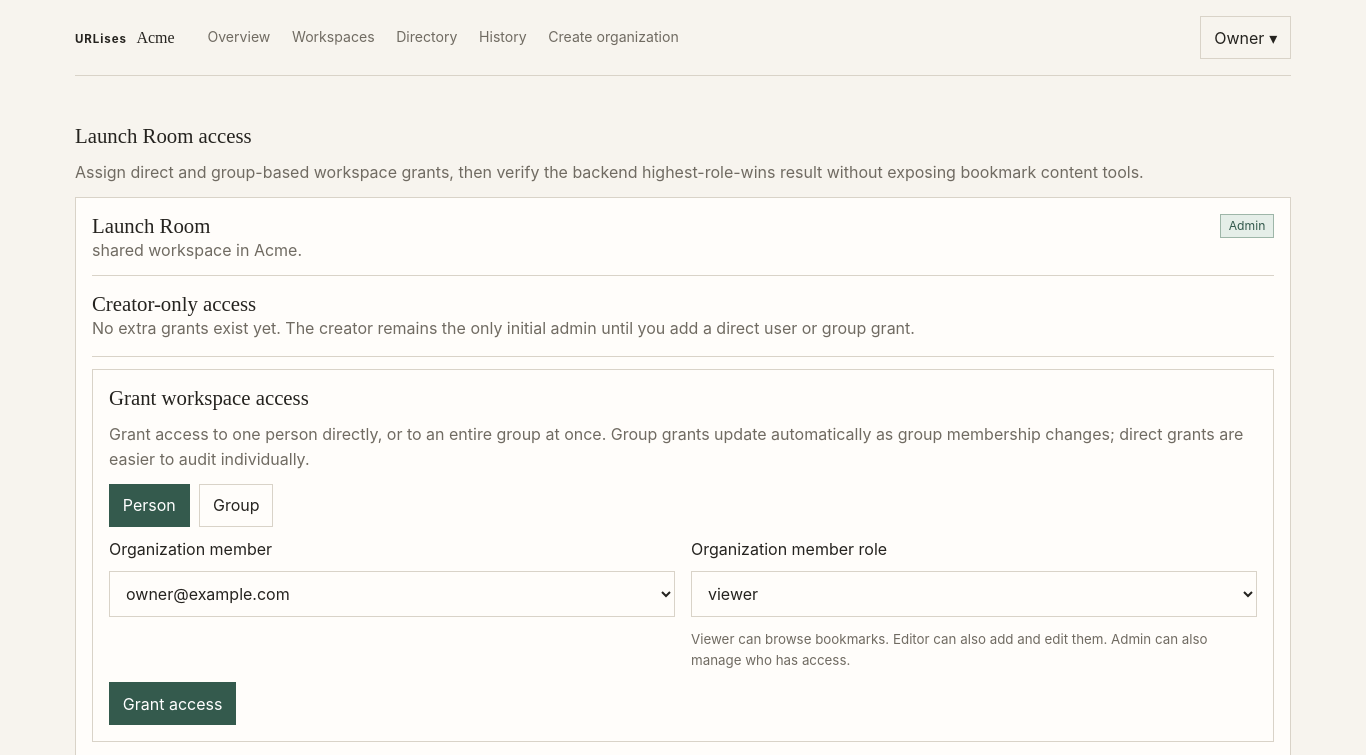
access page › adds a new group grant via the group toggle
Expected: the heading "Creator-only access" is shown, top-left (92, 292), bottom-right (256, 315)
Click the button "Group" at (236, 505), box top-left (199, 484), bottom-right (273, 527)
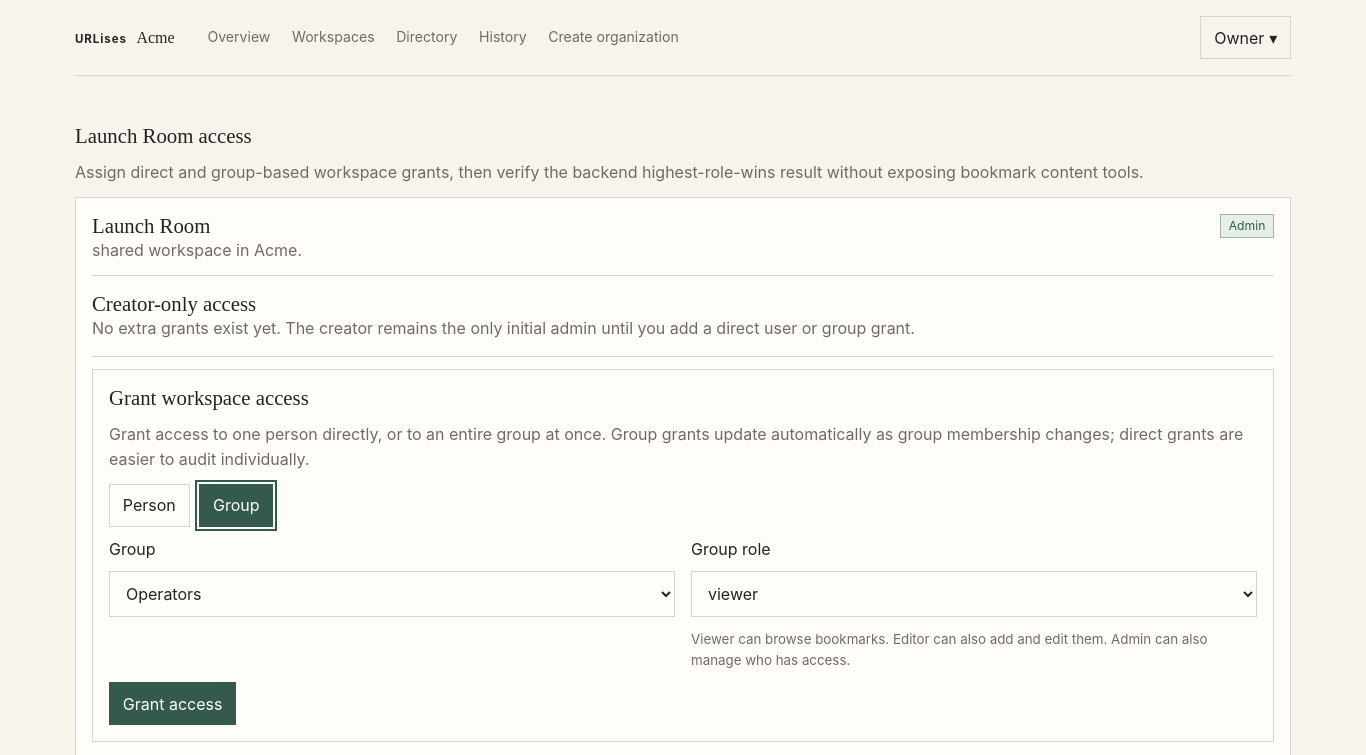
Select "Operators" in the dropdown labelled "Group" at (392, 594), box top-left (109, 571), bottom-right (675, 617)
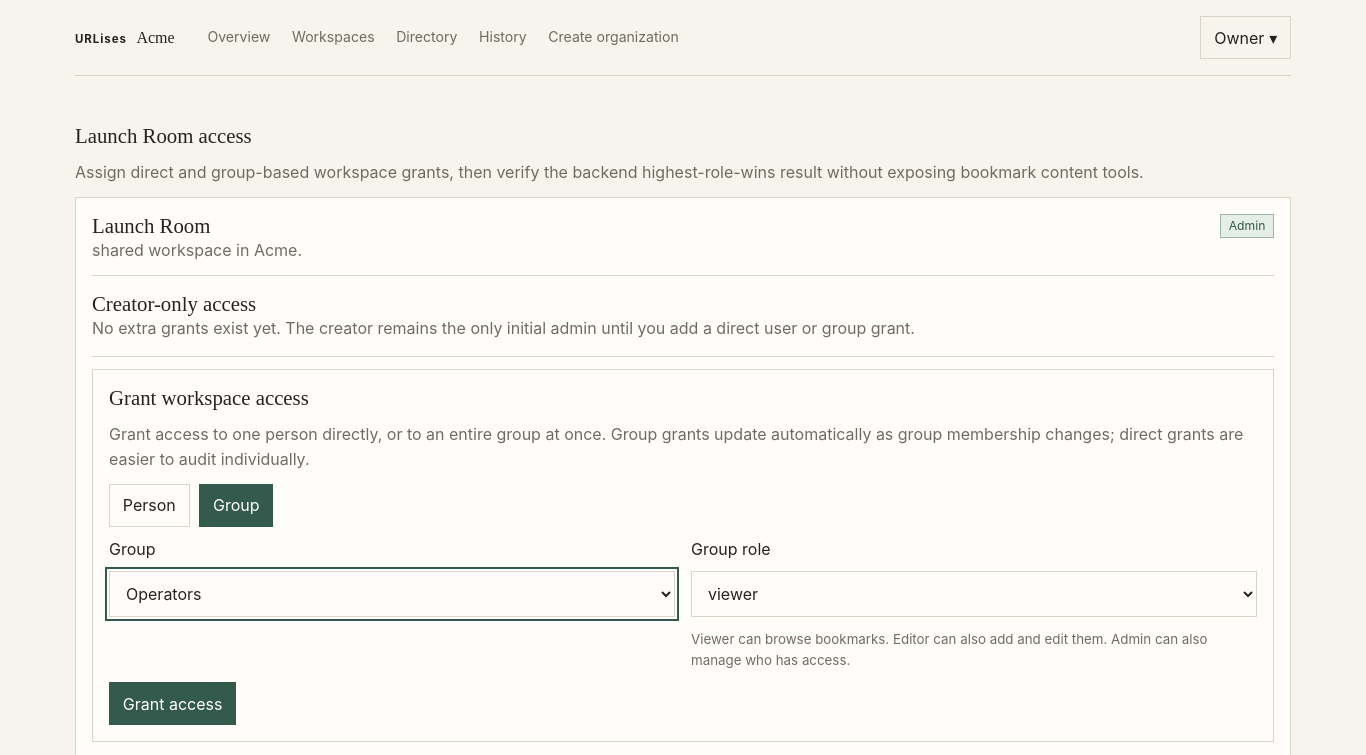
Select "editor" in the dropdown labelled "Group role" at (974, 594), box top-left (691, 571), bottom-right (1257, 617)
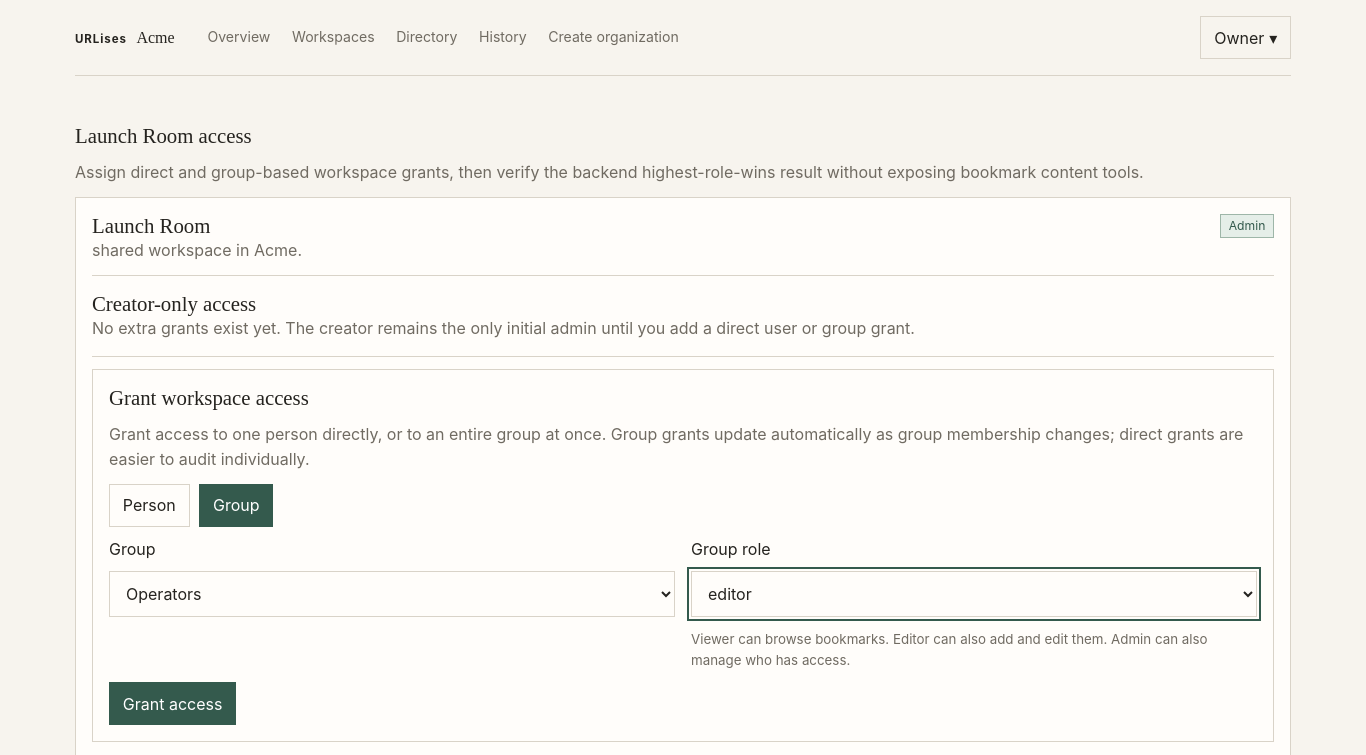
Click the button "Grant access" at (173, 704), box top-left (109, 682), bottom-right (236, 725)
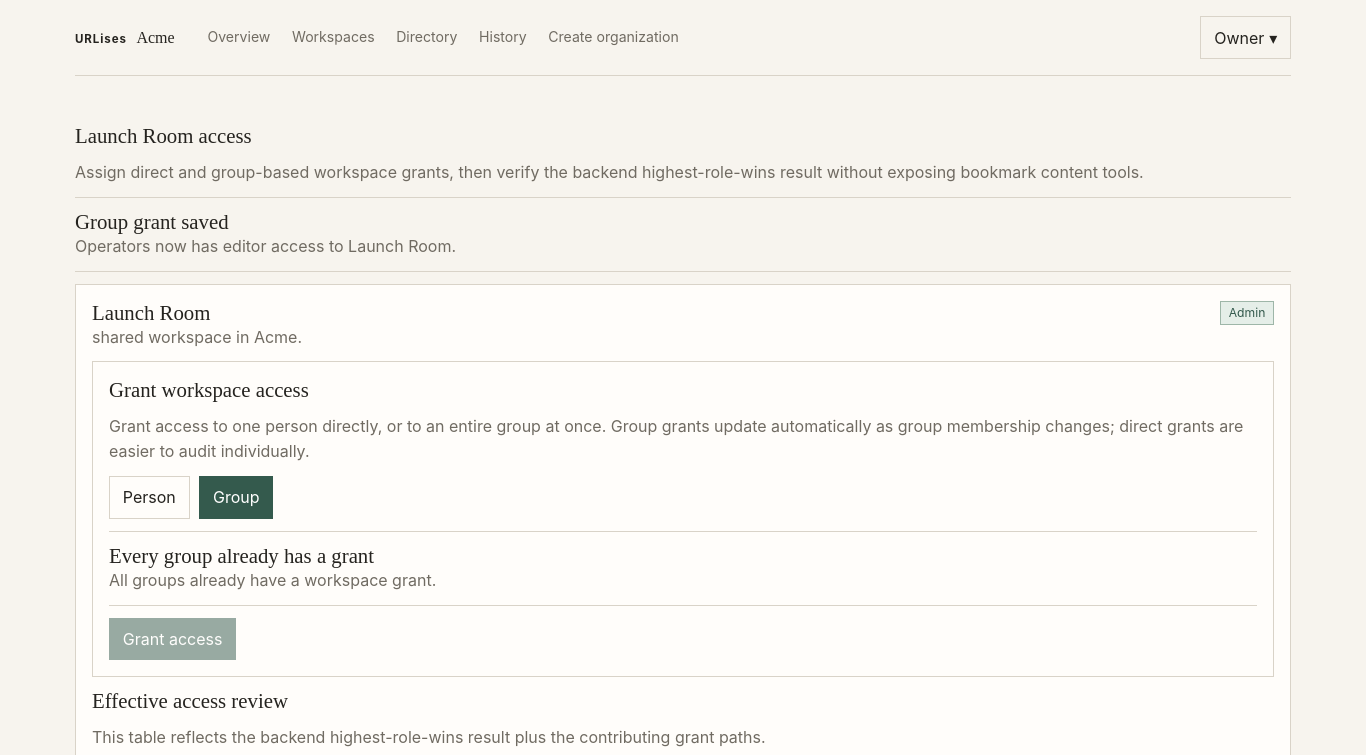
Result: the heading "Group grant saved" is shown at top-left (75, 210), bottom-right (229, 233)
